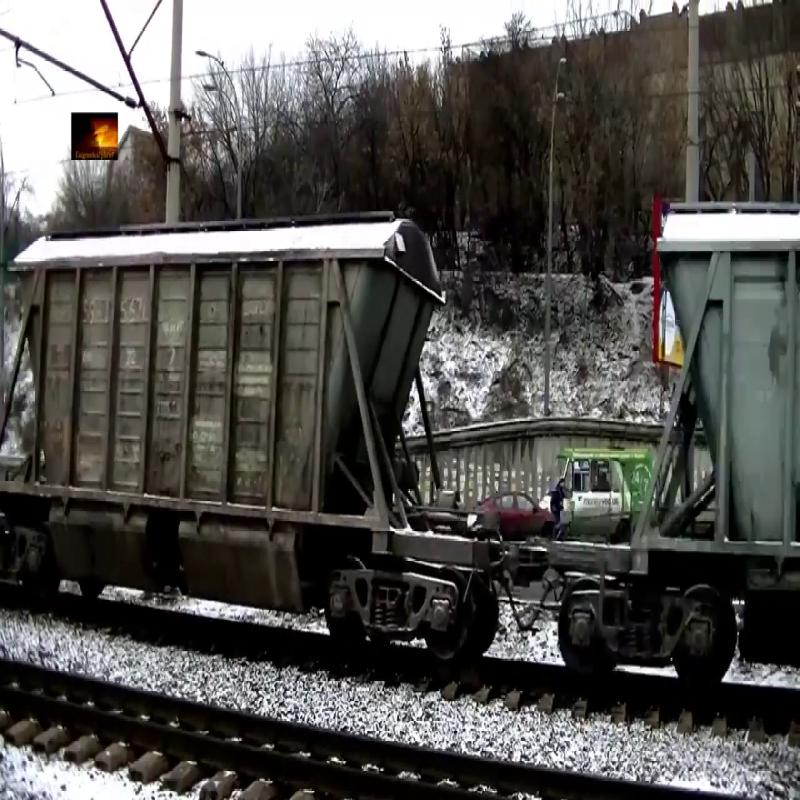train: (1, 205, 453, 576), (632, 196, 800, 595)
